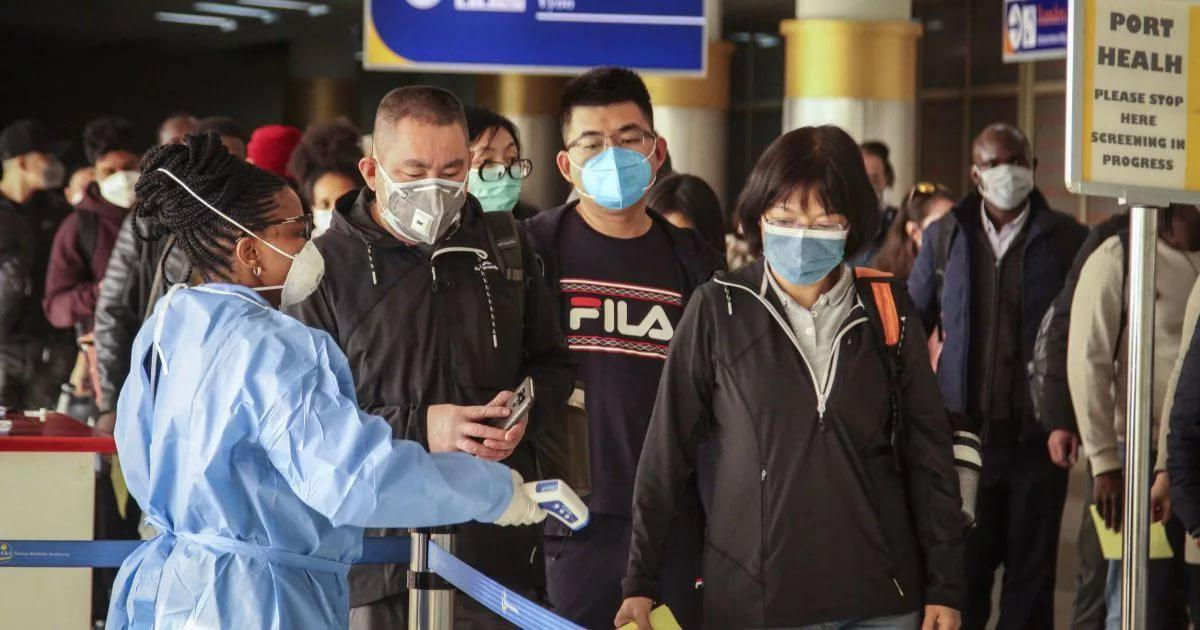mask: (382, 118, 471, 242), (571, 96, 661, 212), (760, 173, 850, 289), (254, 183, 324, 300), (471, 119, 530, 215), (974, 129, 1031, 206), (94, 144, 144, 208)
